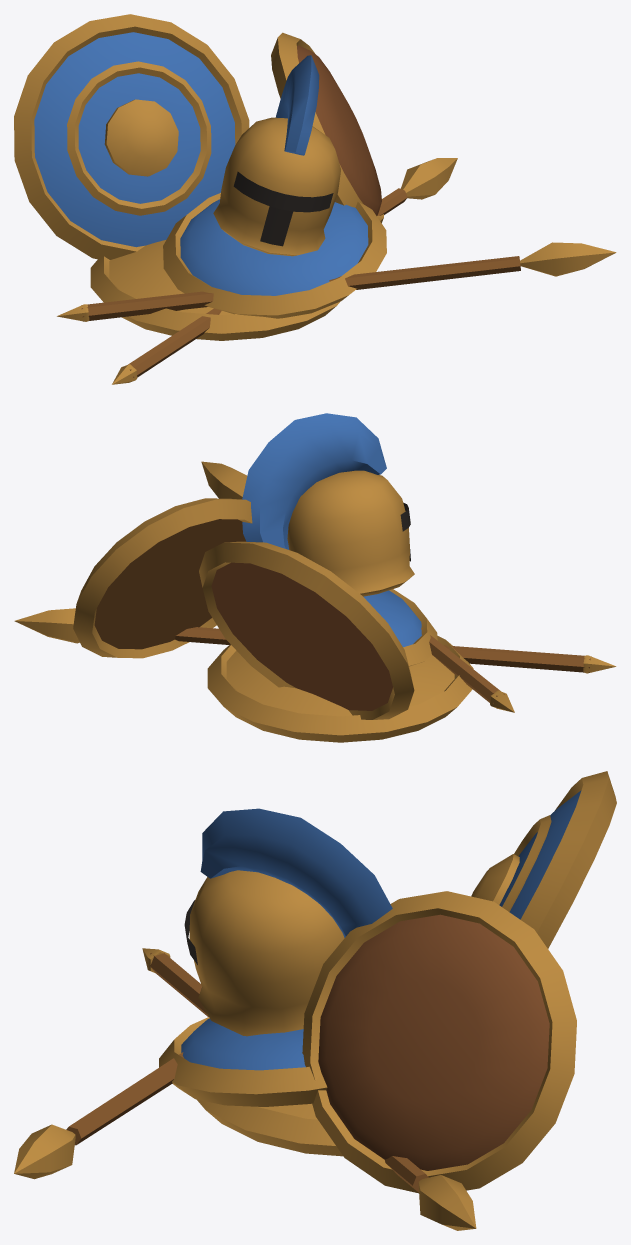
The model's file is shieldPile.glb.
3 renders of one model, top to bottom at view 1: azimuth 30°, elevation 25°; view 2: azimuth 150°, elevation 25°; view 3: azimuth 270°, elevation 25°, orthographic. The views are drawn at different scales.
Visible parts, largest first — view 1: shieldPile; view 2: shieldPile; view 3: shieldPile.
Part boxes in pixels (x1,y1,x2,y2): shieldPile: [14, 14, 616, 384]; shieldPile: [14, 413, 616, 742]; shieldPile: [14, 771, 616, 1230].
Bounding box in the file's own units: 0.8363 × 0.3992 × 0.6899.
